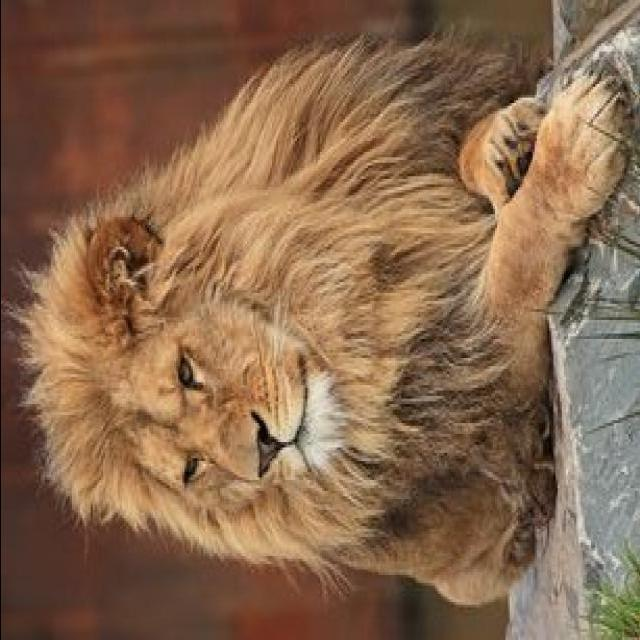lions: (0, 1, 640, 617)
